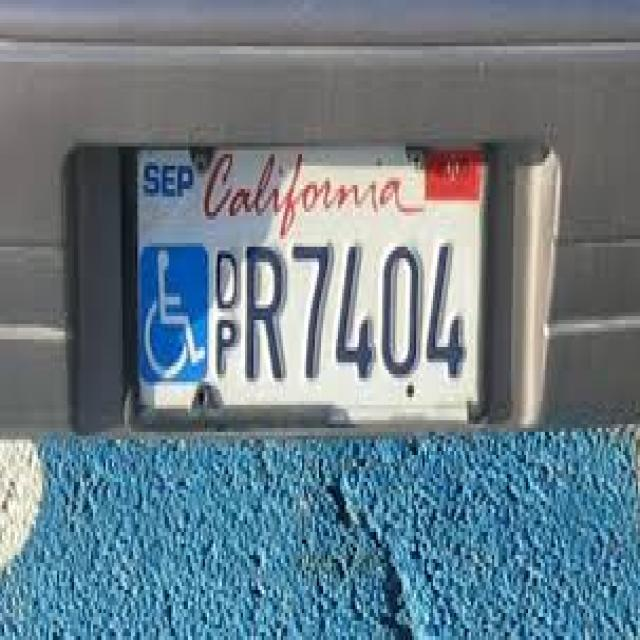car-handicap-placard: (138, 246, 210, 382)
